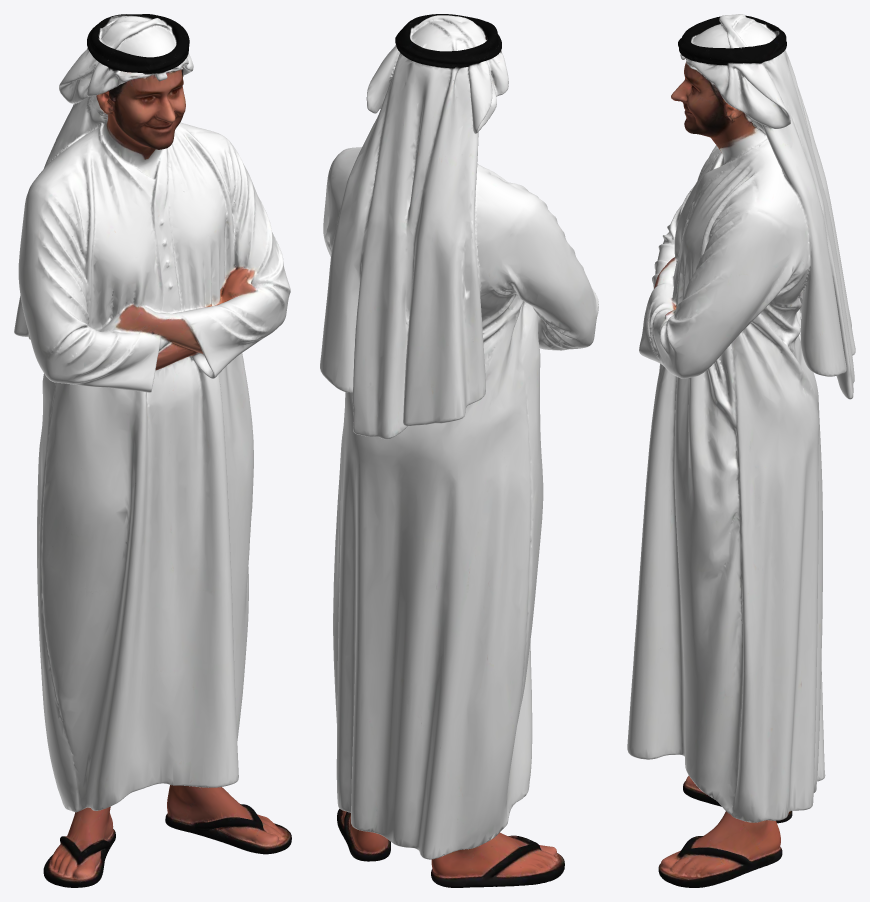
File: person_arabic.glb
The picture shows the model from 3 angles, left to right: view 1: azimuth 30°, elevation 25°; view 2: azimuth 150°, elevation 25°; view 3: azimuth 270°, elevation 25°; orthographic projection. The views are drawn at different scales.
Parts seen in each view (by area): view 1: Object_4; view 2: Object_4; view 3: Object_4.
Part boxes in pixels (x1,y1,x2,y2): Object_4: (14,14,291,887); Object_4: (320,14,598,887); Object_4: (627,14,855,887).
Bounding box in the file's own units: 0.5926 × 1.9 × 0.4865.
1 material, 1 textured.
